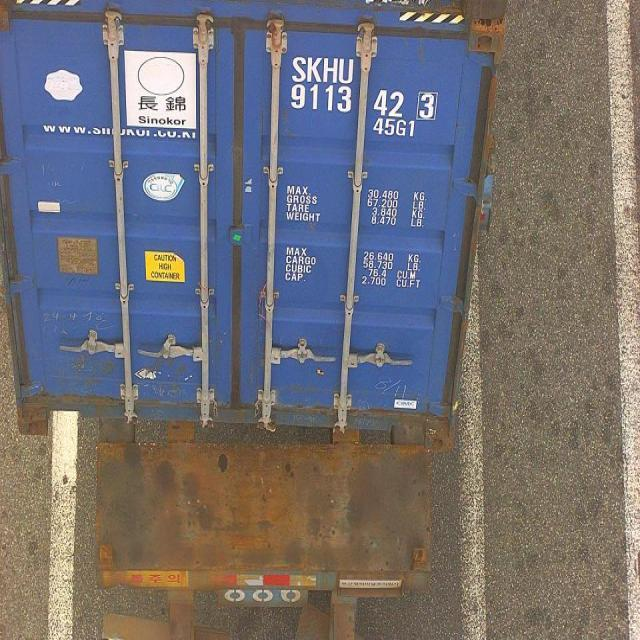ISO: (374, 120, 414, 138)
container_number: (292, 52, 441, 120)
